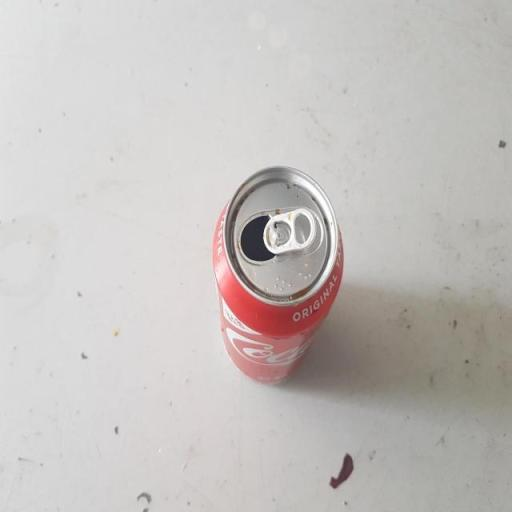metal: (192, 118, 387, 436)
